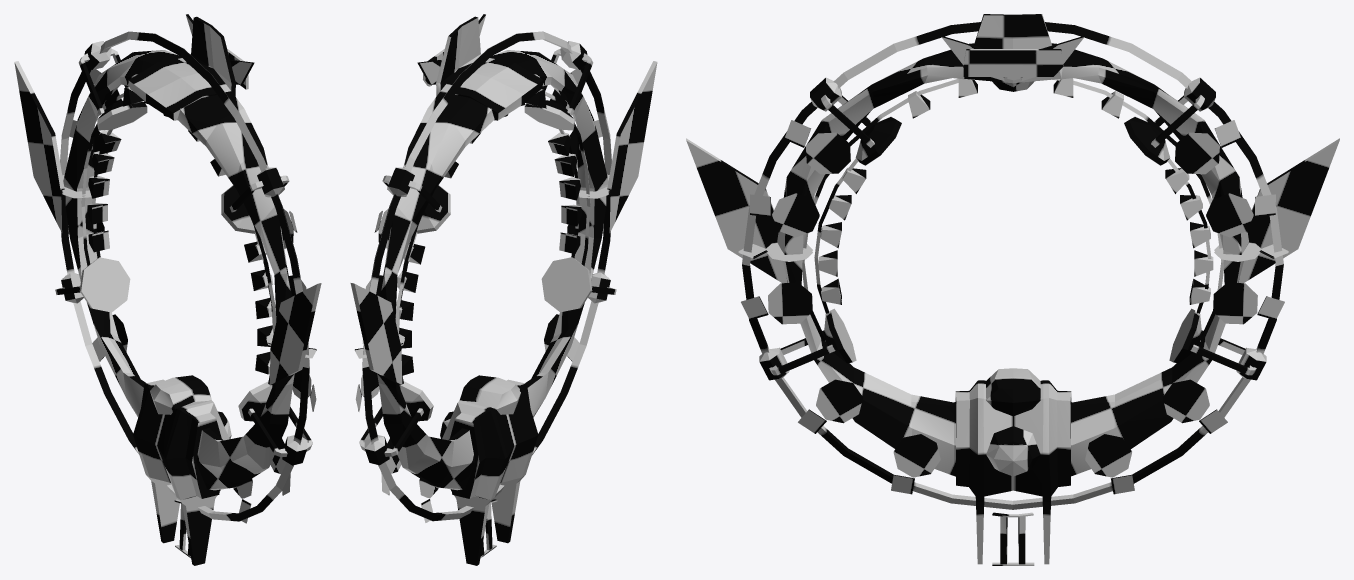
The model's file is eventgate_birthday.obj.
3 views of the same model, side by side, from view 1: azimuth 30°, elevation 25°; view 2: azimuth 150°, elevation 25°; view 3: azimuth 270°, elevation 25° (orthographic). The views are drawn at different scales.
Visible parts, largest first — view 1: eventgate_birthday; view 2: eventgate_birthday; view 3: eventgate_birthday.
Boxes of the visible parts, x1=… form: eventgate_birthday: x1=14, y1=14, x2=321, y2=565; eventgate_birthday: x1=350, y1=14, x2=657, y2=565; eventgate_birthday: x1=686, y1=14, x2=1339, y2=565.
Bounding box in the file's own units: 59.42 × 373 × 393.
Materials: 1 (1 with a texture image).
